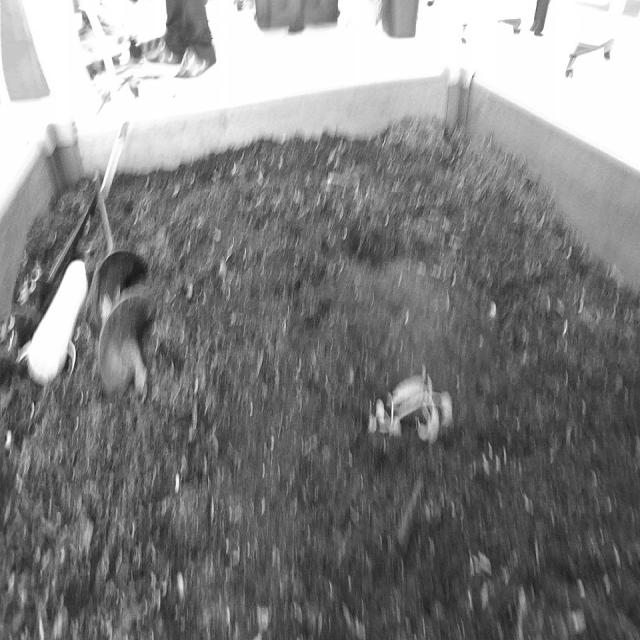Healthy: (356, 352, 461, 462)
